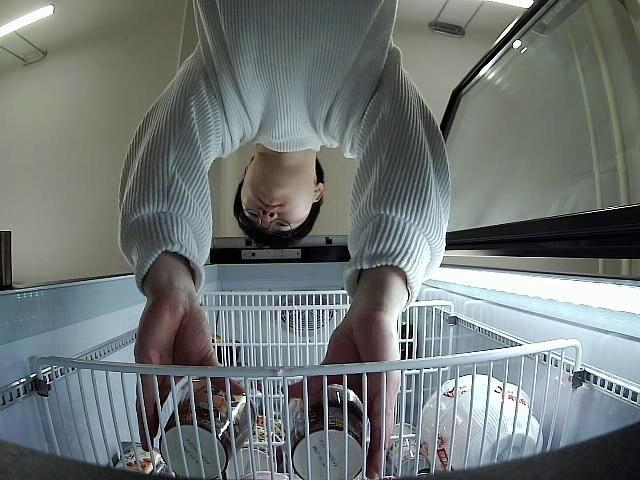06_nuguri_S: (160, 370, 256, 480), (280, 386, 370, 480)
